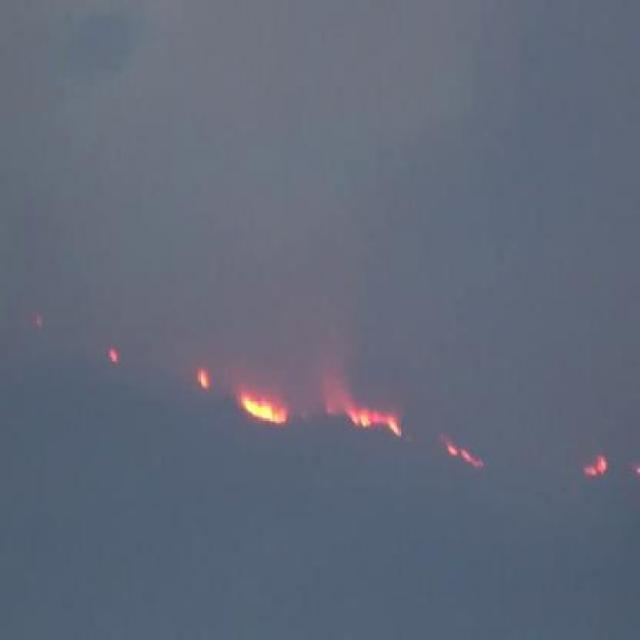Fire: (240, 392, 288, 428), (352, 404, 399, 436), (446, 441, 483, 470), (586, 455, 606, 477), (197, 364, 210, 390), (106, 347, 120, 362)
